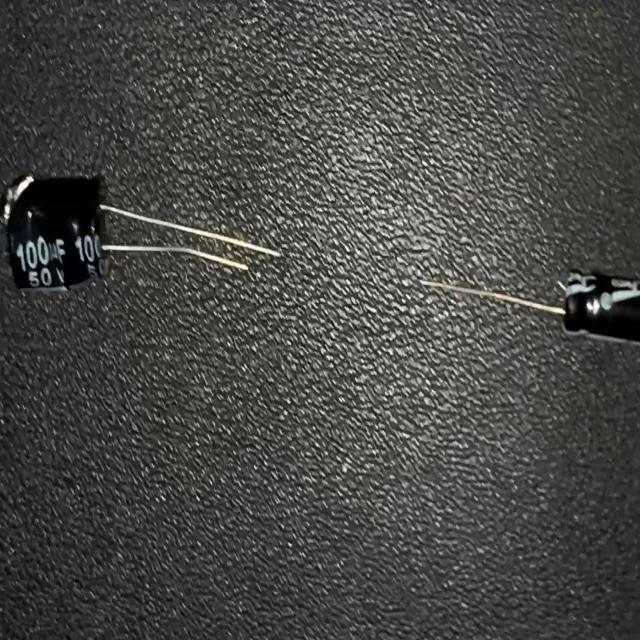capacitor: (0, 164, 282, 298)
cracked: (13, 206, 78, 263), (2, 171, 38, 237)
missing-leg: (419, 262, 640, 348)
